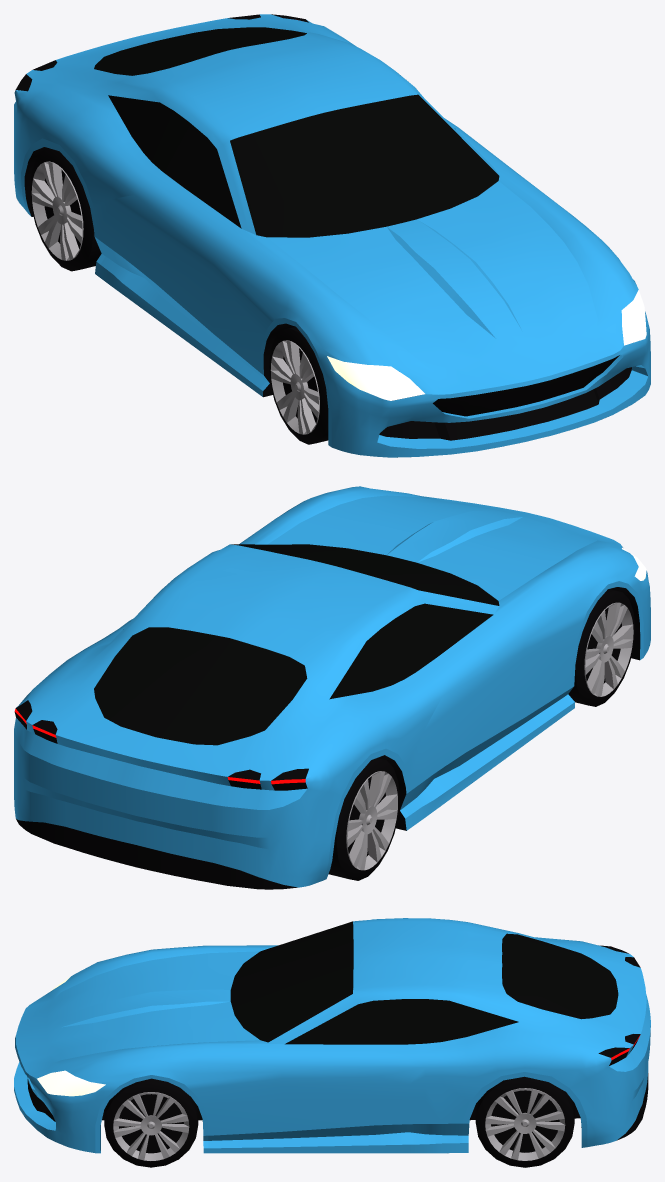
File: roma.glb
3 views of the same model, one above another, from view 1: azimuth 30°, elevation 25°; view 2: azimuth 150°, elevation 25°; view 3: azimuth 270°, elevation 25° (orthographic). The views are drawn at different scales.
Parts seen in each view (by area): view 1: Roma_CarPaint_0, Roma_Window_0, Roma_FrontLights_0; view 2: Roma_CarPaint_0, Roma_Window_0; view 3: Roma_CarPaint_0, Roma_Window_0, Roma_FrontLights_0.
Boxes of the visible parts, box(x1,y1,x2,y2) form: Roma_CarPaint_0: box(14, 14, 650, 457); Roma_Window_0: box(15, 14, 631, 457); Roma_FrontLights_0: box(327, 290, 646, 400); Roma_CarPaint_0: box(14, 486, 650, 887); Roma_Window_0: box(14, 544, 640, 889); Roma_CarPaint_0: box(14, 918, 650, 1153); Roma_Window_0: box(24, 921, 648, 1167); Roma_FrontLights_0: box(37, 977, 105, 1096).
Size of the model in its own units: 2.07 by 1.26 by 4.59.
Materials: 4 (4 with a texture image).
